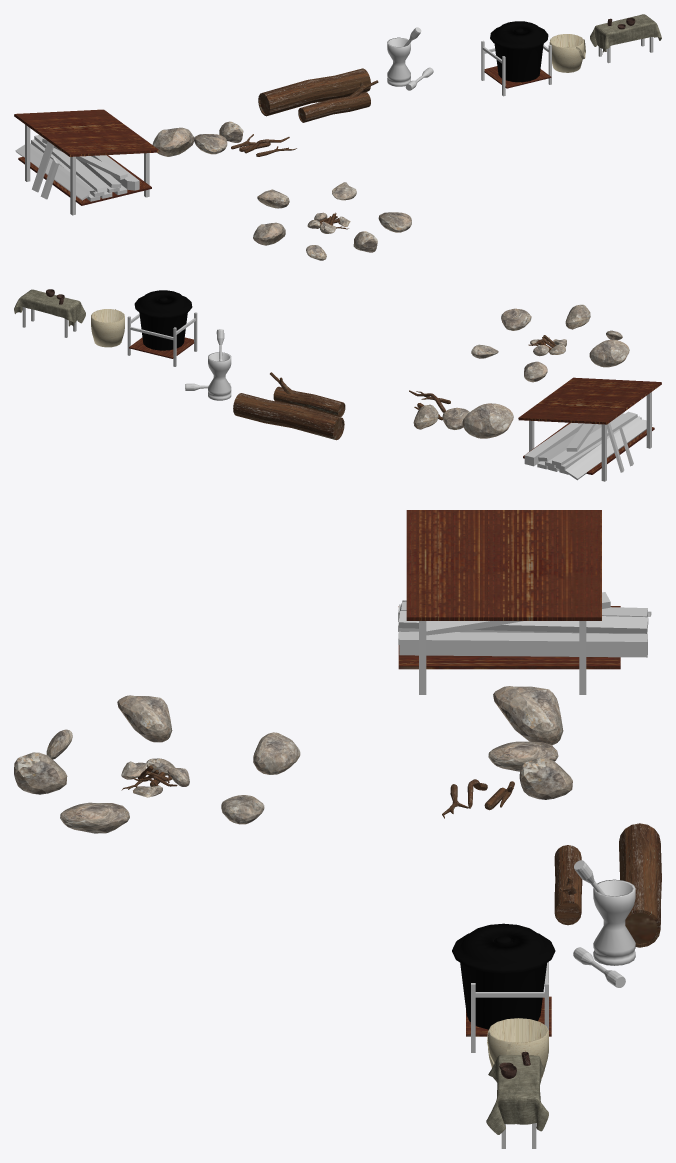
Rendered from props.fbx.
3 views of the same model, one above another, from view 1: azimuth 30°, elevation 25°; view 2: azimuth 150°, elevation 25°; view 3: azimuth 270°, elevation 25° (orthographic). The views are drawn at different scales.
Parts seen in each view (by area): view 1: Cube.014, Cube.017, Plane.010, Cylinder, Cube.019, Cylinder.002, Cylinder.001, Cylinder.006, Sphere, Sphere.001, Sphere.002; view 2: Cube.014, Cube.017, Plane.010, Cylinder, Cube.019, Sphere, Cylinder.002, Cylinder.001, Cylinder.006, Sphere.002, Sphere.001; view 3: Cube.014, Plane.010, Cube.017, Cylinder, Cylinder.002, Cube.019, Sphere, Cylinder.006, Cylinder.001, Sphere.002, Sphere.001.
Boxes of the visible parts, <box> form: Cube.014: <box>14,109,159,215</box>; Cube.017: <box>481,21,551,96</box>; Plane.010: <box>253,182,411,260</box>; Cylinder: <box>258,68,370,116</box>; Cube.019: <box>590,14,661,63</box>; Cylinder.002: <box>387,27,433,90</box>; Cylinder.001: <box>298,80,378,122</box>; Cylinder.006: <box>549,34,585,72</box>; Sphere: <box>152,127,193,156</box>; Sphere.001: <box>194,134,227,154</box>; Sphere.002: <box>219,121,243,142</box>; Cube.014: <box>518,377,661,481</box>; Cube.017: <box>127,290,197,366</box>; Plane.010: <box>471,304,629,382</box>; Cylinder: <box>233,393,344,440</box>; Cube.019: <box>14,289,85,337</box>; Sphere: <box>462,403,513,438</box>; Cylinder.002: <box>185,329,231,400</box>; Cylinder.001: <box>270,372,345,416</box>; Cylinder.006: <box>91,309,124,347</box>; Sphere.002: <box>413,404,438,429</box>; Sphere.001: <box>442,407,469,429</box>; Cube.014: <box>398,510,651,694</box>; Plane.010: <box>14,695,300,833</box>; Cube.017: <box>452,923,555,1052</box>; Cylinder: <box>619,823,661,947</box>; Cylinder.002: <box>573,860,635,987</box>; Cube.019: <box>486,1051,548,1148</box>; Sphere: <box>493,686,563,745</box>; Cylinder.006: <box>487,1018,548,1078</box>; Cylinder.001: <box>554,845,582,925</box>; Sphere.002: <box>519,757,572,799</box>; Sphere.001: <box>488,741,558,771</box>.
Bounding box in the file's own units: 1579 × 180 × 819.
